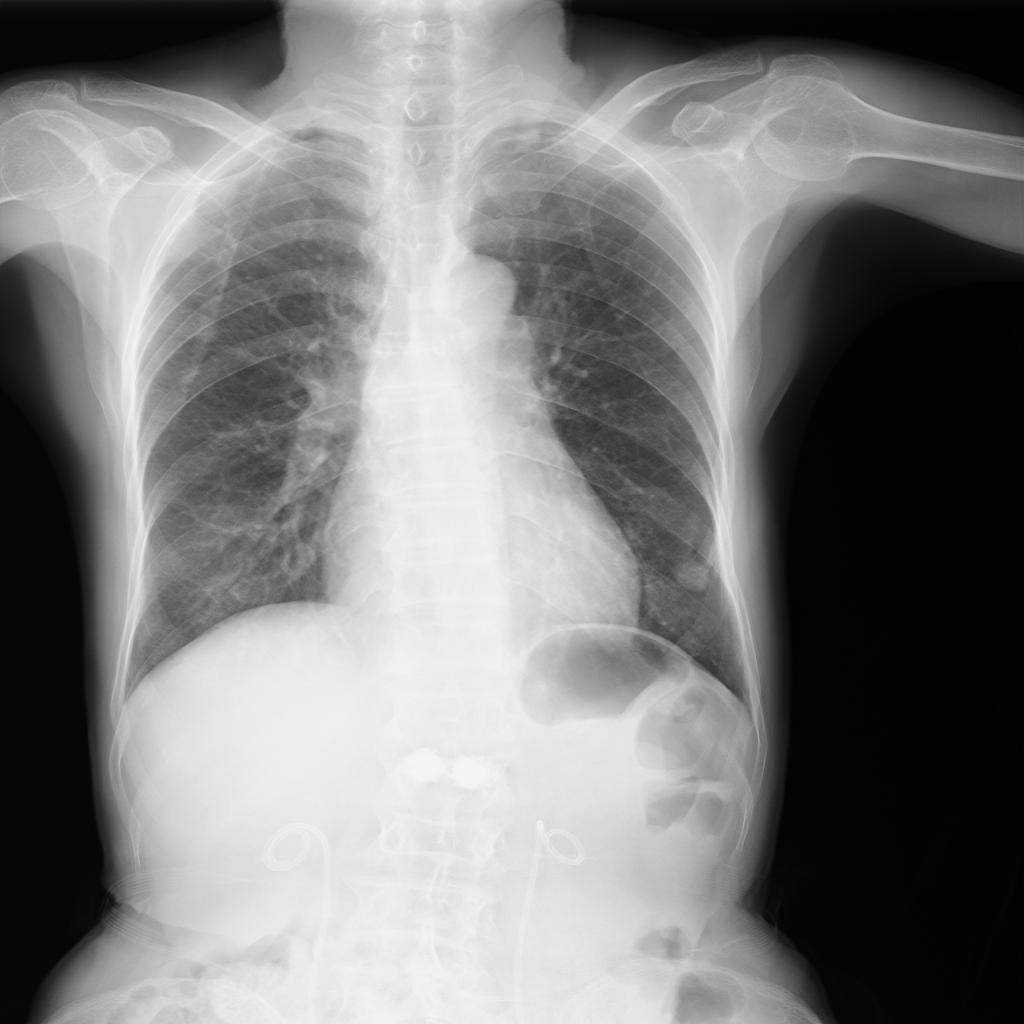Nodule: (674, 557, 712, 596)
